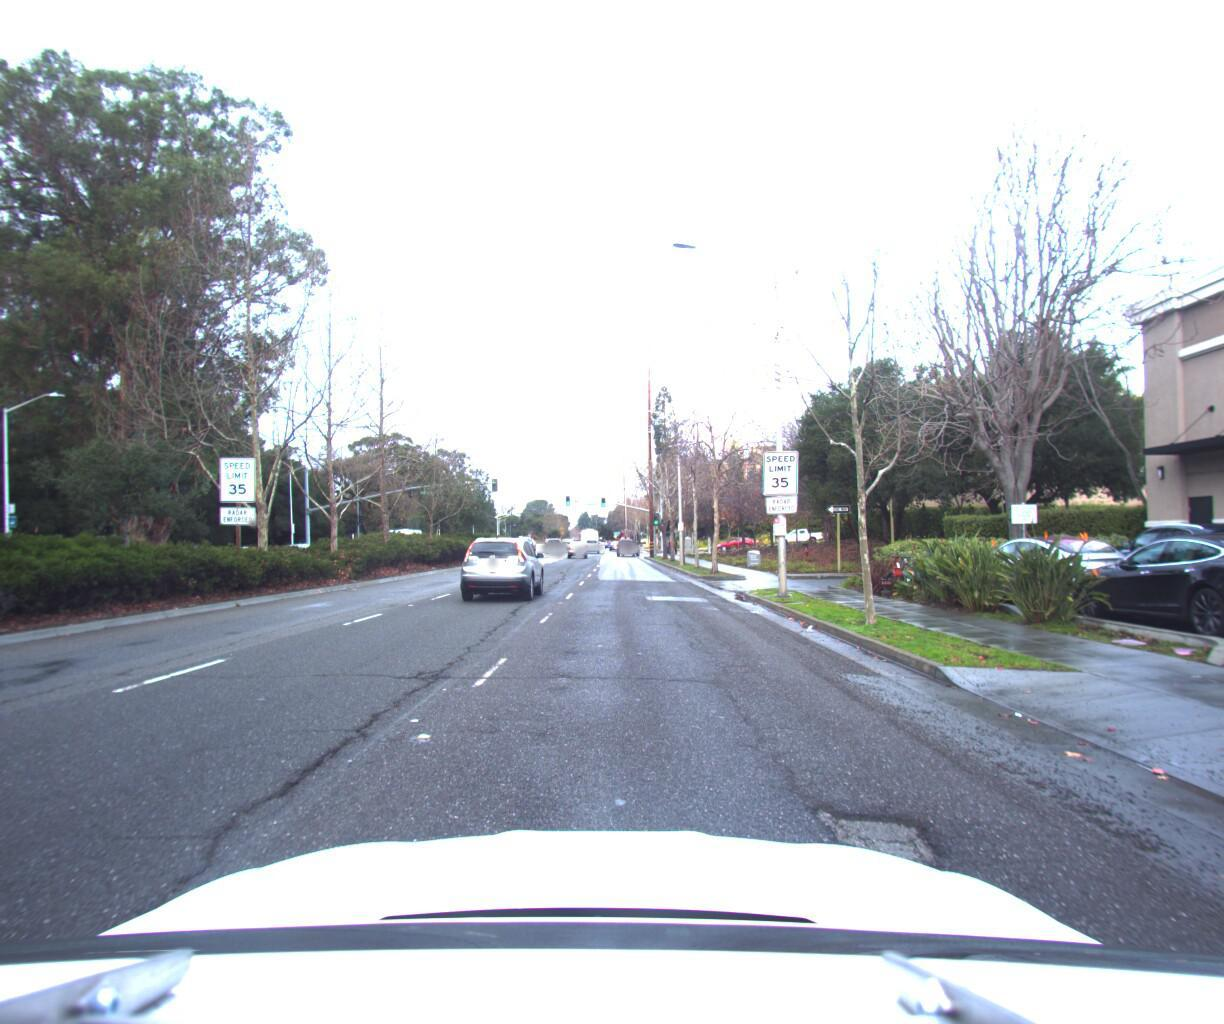car: (1046, 524, 1224, 647), (948, 525, 1161, 609), (1070, 513, 1224, 608), (458, 532, 544, 607), (615, 536, 639, 553), (567, 538, 589, 557)
